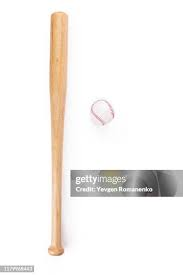baseball bat: (46, 10, 70, 256)
